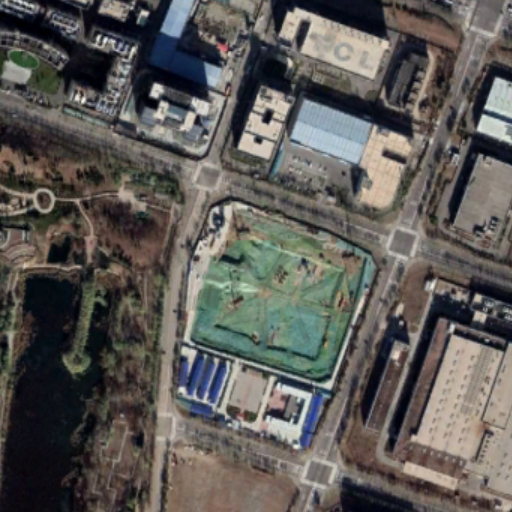cw: (186, 195, 378, 393)
